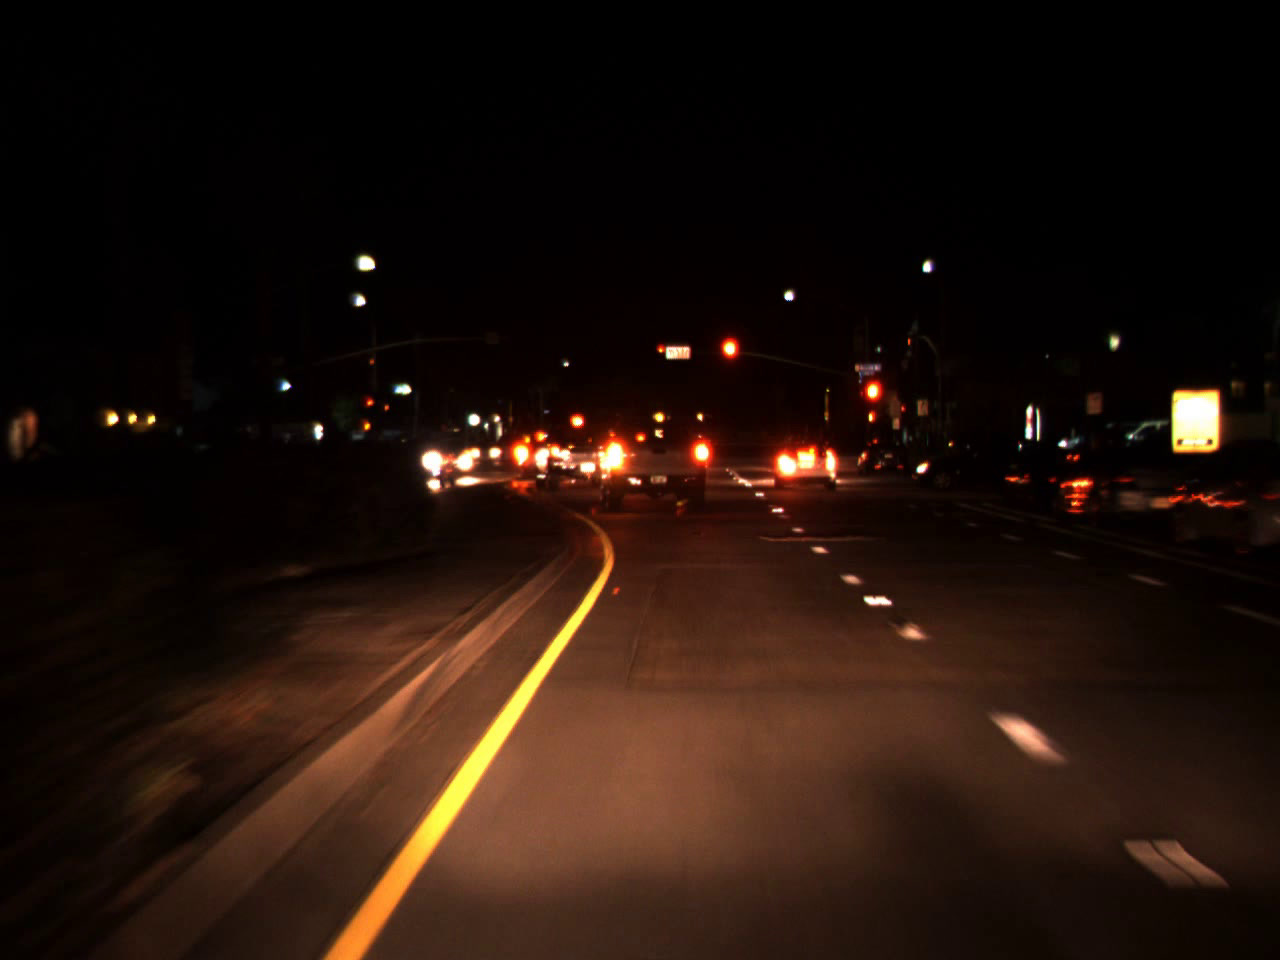stop: (718, 333, 742, 387), (861, 377, 885, 428), (656, 345, 668, 358), (367, 398, 373, 411)
